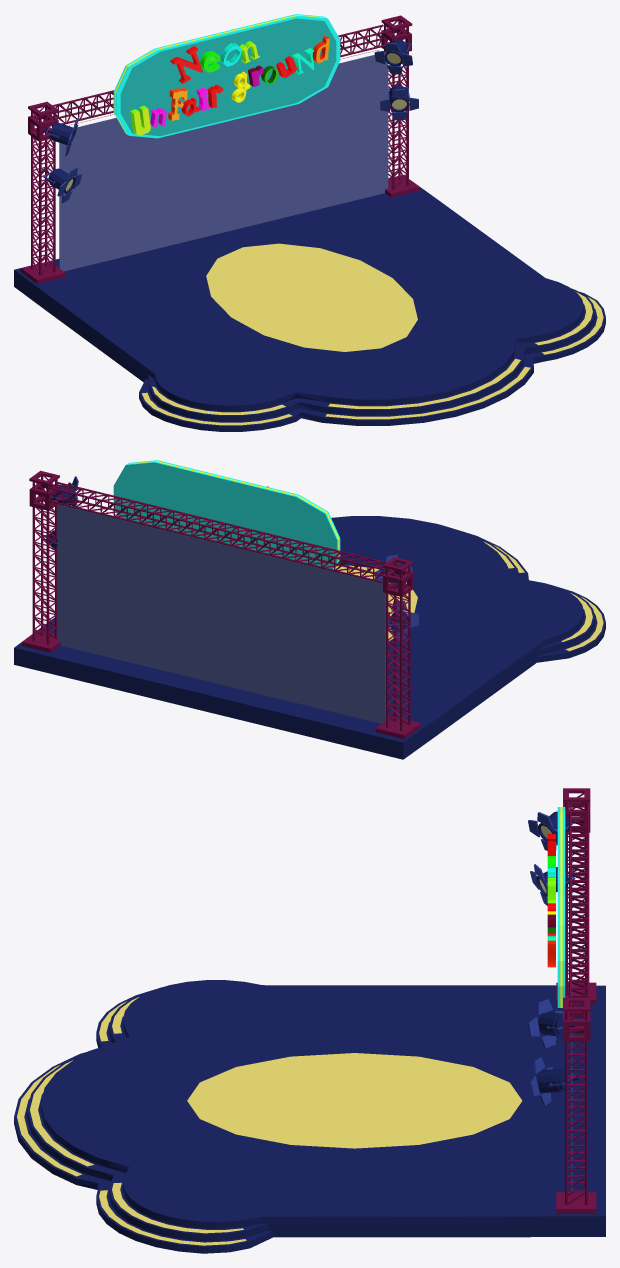
The model's file is stage.glb.
The picture shows the model from 3 angles, top to bottom: view 1: azimuth 30°, elevation 25°; view 2: azimuth 150°, elevation 25°; view 3: azimuth 270°, elevation 25°; orthographic projection. The views are drawn at different scales.
Parts seen in each view (by area): view 1: Stage, Cube.001, Plane.002, Cilindro.001; view 2: Stage, Cube.001, Cilindro.001; view 3: Stage, Cilindro.001, Cube.001, Plane.002.
Boxes of the visible parts, <box> form: Stage: <box>14,15,605,431</box>; Cube.001: <box>113,14,340,138</box>; Plane.002: <box>130,36,329,135</box>; Cilindro.001: <box>42,39,418,203</box>; Stage: <box>14,470,605,759</box>; Cube.001: <box>113,460,340,569</box>; Cilindro.001: <box>42,476,418,639</box>; Stage: <box>14,788,605,1253</box>; Cilindro.001: <box>528,811,578,1105</box>; Cube.001: <box>557,807,565,1007</box>; Plane.002: <box>547,834,555,967</box>.
Size of what is drawn, in the model's own units: 31.21 by 14.73 by 29.55.
Materials: 6 (6 with a texture image).
